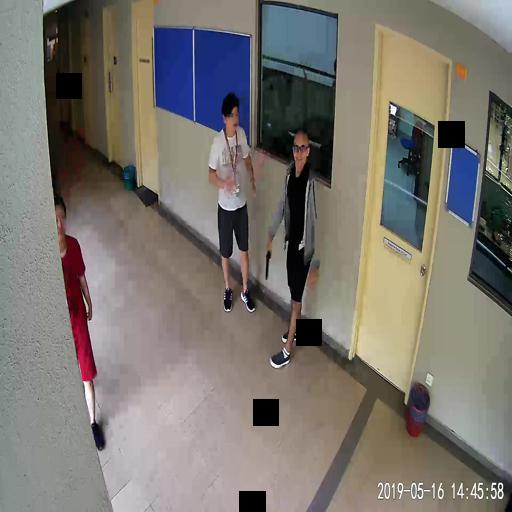Handgun: (264, 244, 271, 277)
